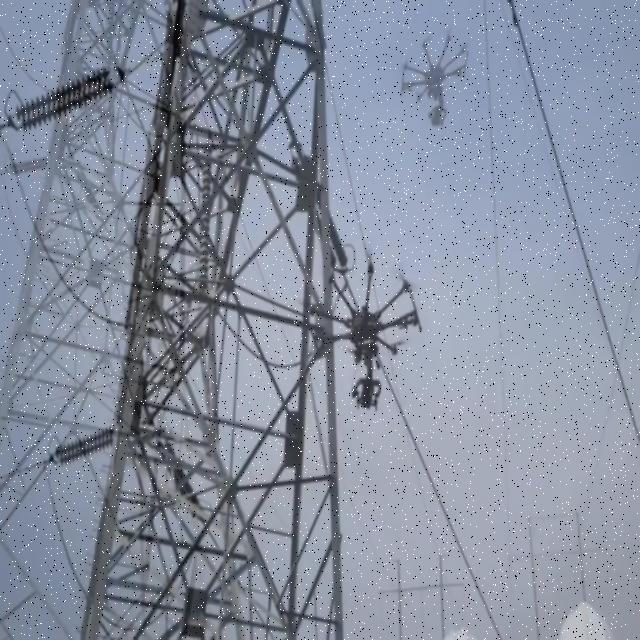UAV: (309, 262, 422, 412), (401, 32, 468, 127)
